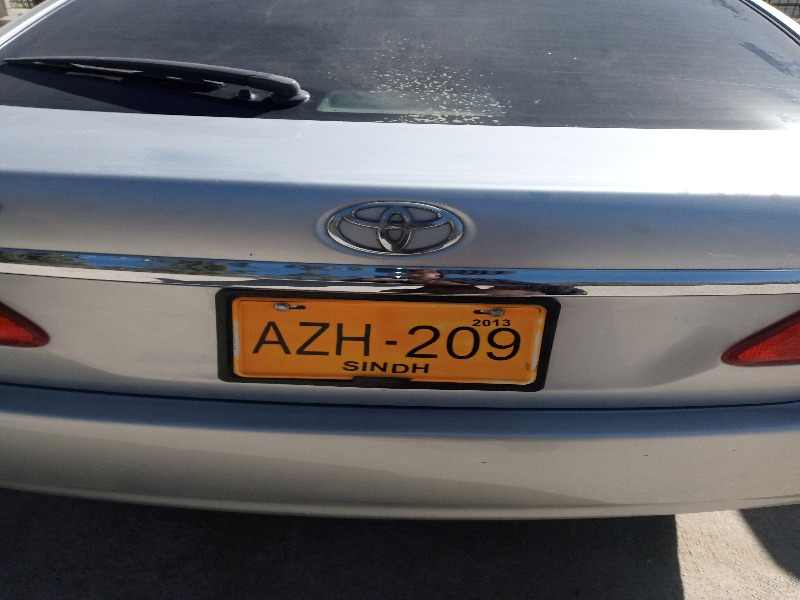License Plate: (223, 290, 553, 395)
